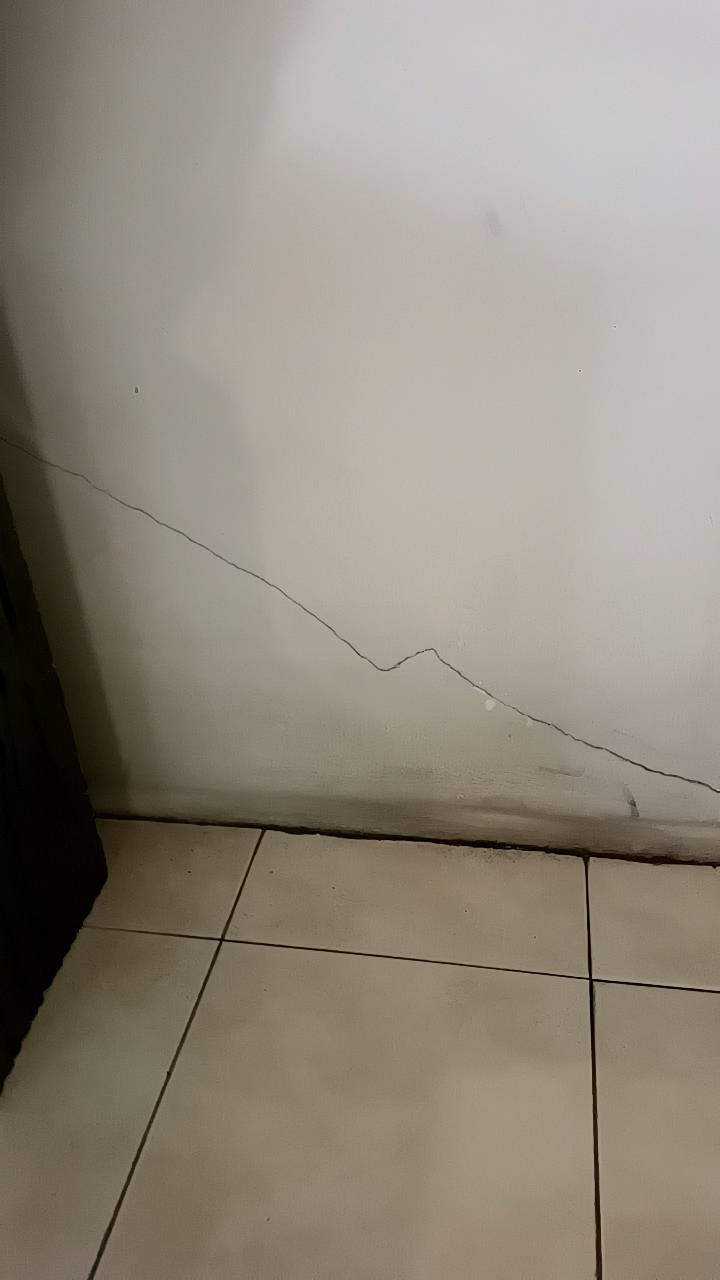Low: (7, 397, 720, 826)
